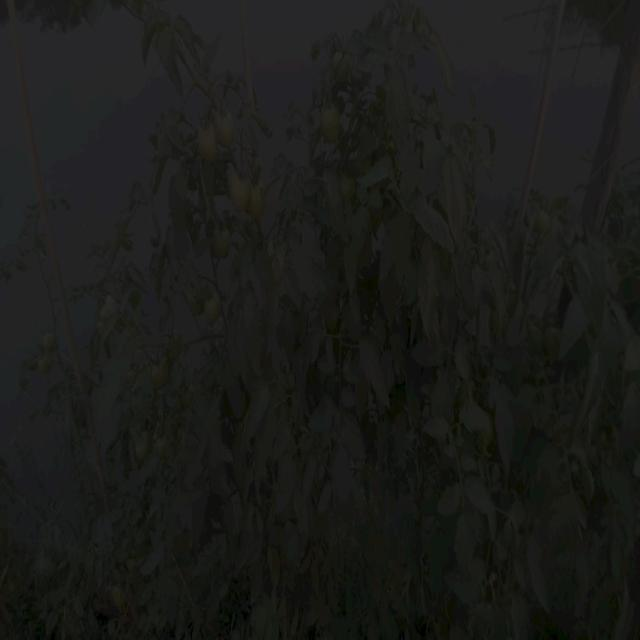tomato: (216, 110, 247, 148), (320, 103, 346, 148), (197, 122, 225, 159), (229, 171, 253, 213), (212, 228, 239, 256), (129, 432, 161, 453), (541, 325, 560, 359), (204, 298, 226, 327), (532, 209, 555, 236), (155, 357, 174, 389), (109, 585, 127, 616), (246, 181, 258, 226), (98, 296, 124, 316), (38, 350, 58, 376), (341, 171, 357, 199), (152, 432, 174, 452), (41, 334, 64, 352)
